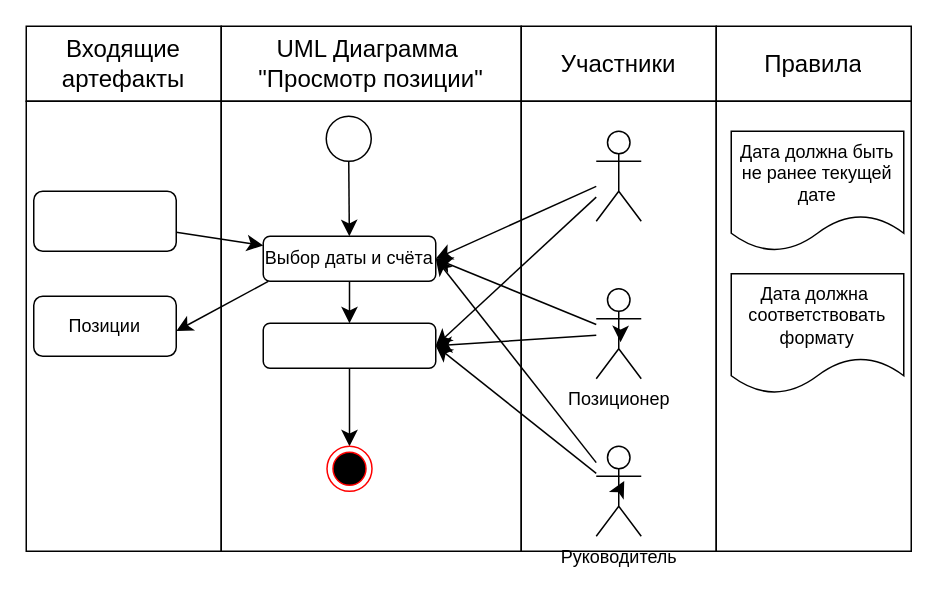
Image size: 938x594. Some labels were removed from this diagram. The shapes that lost their labels are listed below. From the top down, each one's centre as x and y in pixels, then its label:
the point at 618,175: Дилер
the point at 104,220: Список счетов
the point at 349,345: Просмотр позиции
